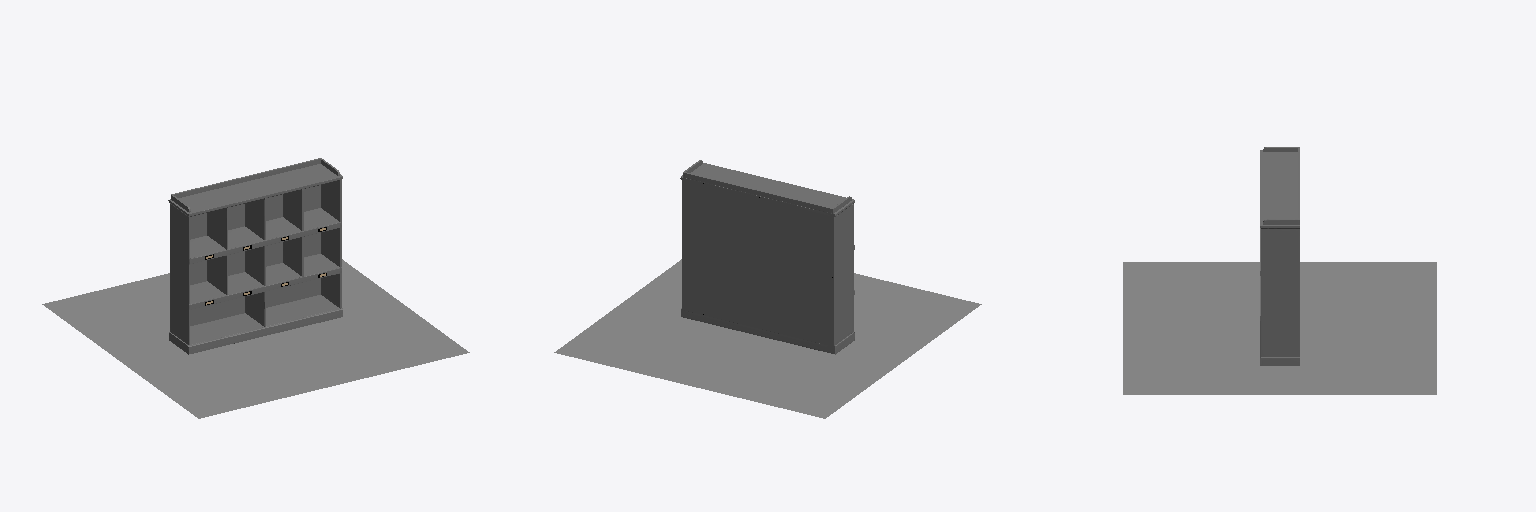
File: SEHO2183_v6_LOD2.obj
3 renders of one model, left to right at view 1: azimuth 30°, elevation 25°; view 2: azimuth 150°, elevation 25°; view 3: azimuth 270°, elevation 25°, orthographic.
Visible parts, largest first — view 1: shadow_plane_v6, not_clear_obj_3_v6, not_clear_obj_4_v6; view 2: shadow_plane_v6, not_clear_obj_5_v6, not_clear_obj_3_v6; view 3: shadow_plane_v6, not_clear_obj_3_v6.
Boxes of the visible parts, <box> form: shadow_plane_v6: <box>42,259,469,418</box>; not_clear_obj_3_v6: <box>168,158,342,354</box>; not_clear_obj_4_v6: <box>190,185,320,325</box>; shadow_plane_v6: <box>554,259,981,418</box>; not_clear_obj_5_v6: <box>682,177,833,346</box>; not_clear_obj_3_v6: <box>680,160,854,354</box>; shadow_plane_v6: <box>1123,262,1436,394</box>; not_clear_obj_3_v6: <box>1260,147,1299,365</box>.
Bounding box in the file's own units: 236 × 121 × 236.